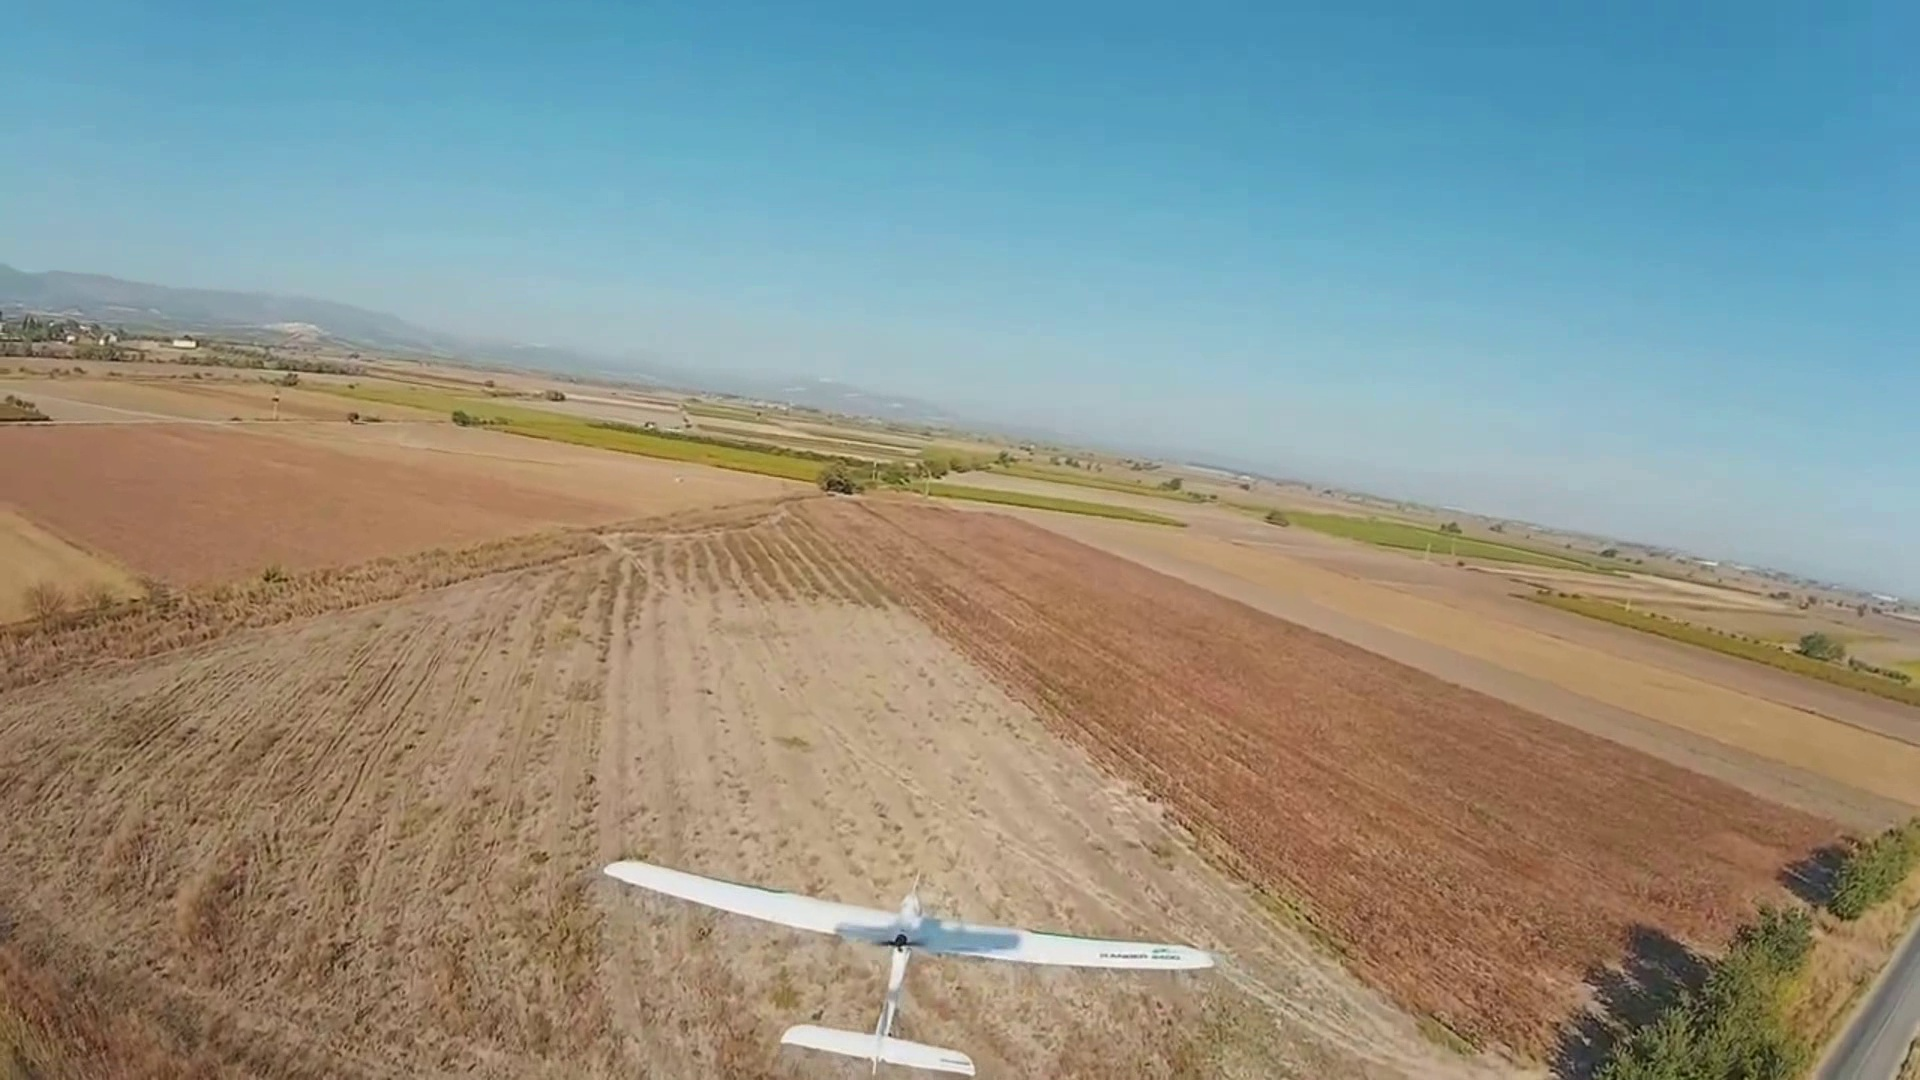airplane: (599, 858, 1217, 1071)
